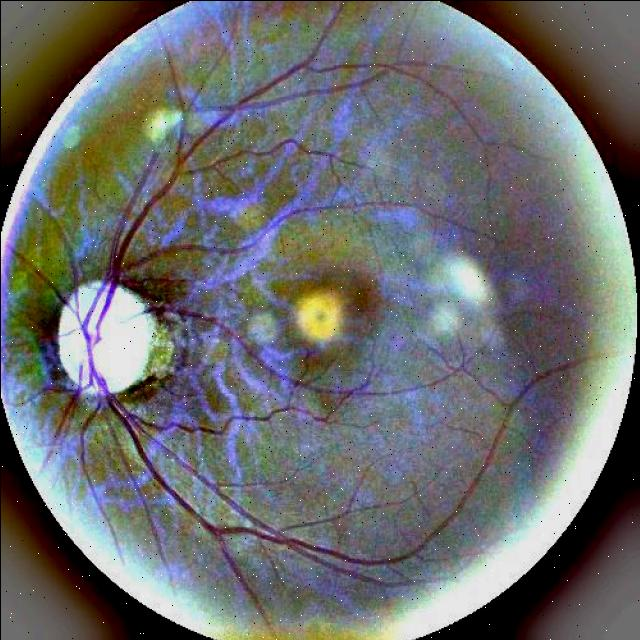Optic Disk: (58, 280, 173, 394)
